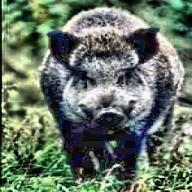boar: (39, 6, 186, 192)
